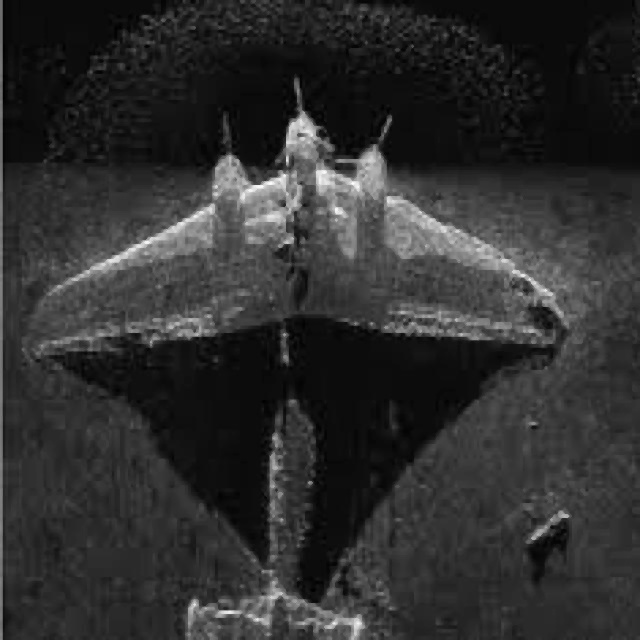Plane: (12, 70, 573, 640)
